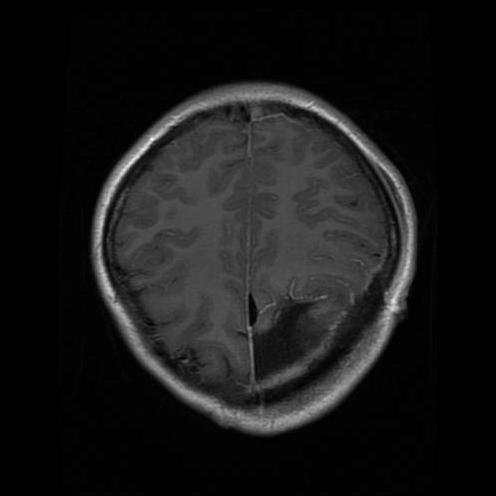Tumour-Glioma: (239, 293, 324, 378)
